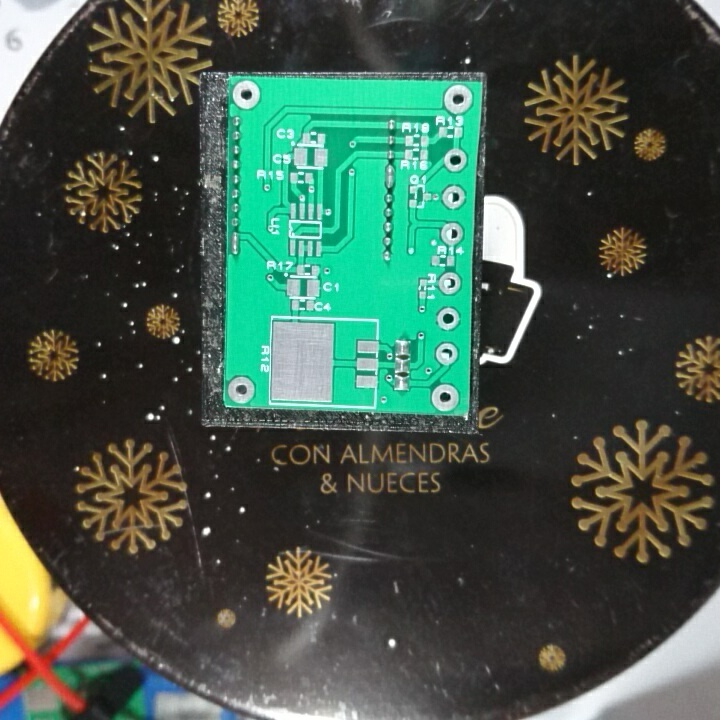F: (224, 372, 257, 406), (230, 78, 265, 110), (428, 380, 461, 412), (442, 85, 476, 116), (440, 182, 470, 212), (437, 220, 467, 249), (435, 269, 464, 298), (432, 338, 461, 366), (442, 146, 470, 174), (433, 306, 461, 332)
P: (381, 162, 400, 191), (227, 230, 244, 255)
